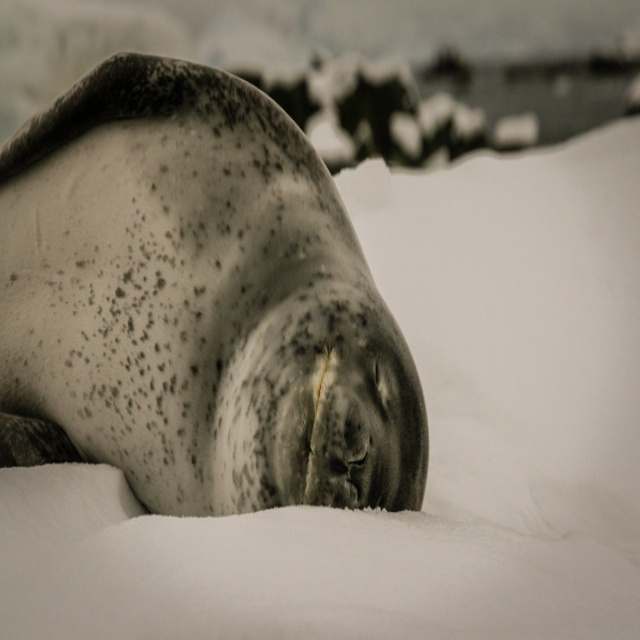Harbor seal: (0, 44, 430, 510)
